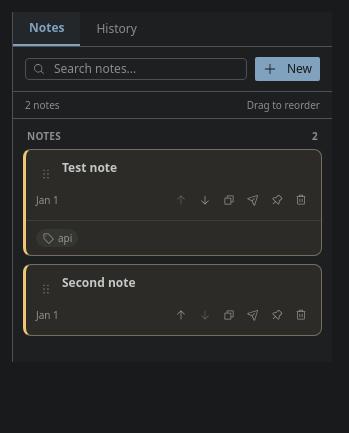
Test: NotesDrawer › shows search result counts and clears search input
Type "Second" into the search field with placeholder "Search notes..." at {"x": 136, "y": 69}, box left=25, top=58, right=247, bottom=80
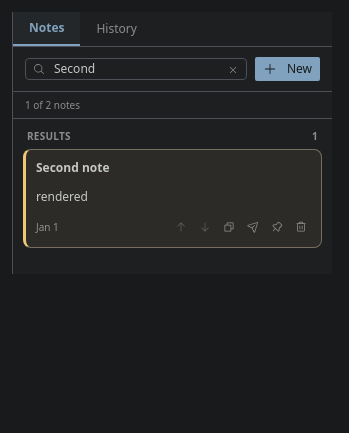
Result: the text "1 of 2 notes" is shown at left=25, top=98, right=80, bottom=112
Click the button named "Clear notes search" at {"x": 233, "y": 70}, box left=223, top=60, right=243, bottom=80
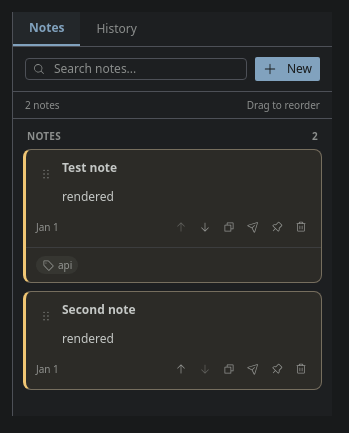
Result: the search field with placeholder "Search notes..." is empty at left=25, top=58, right=247, bottom=80
